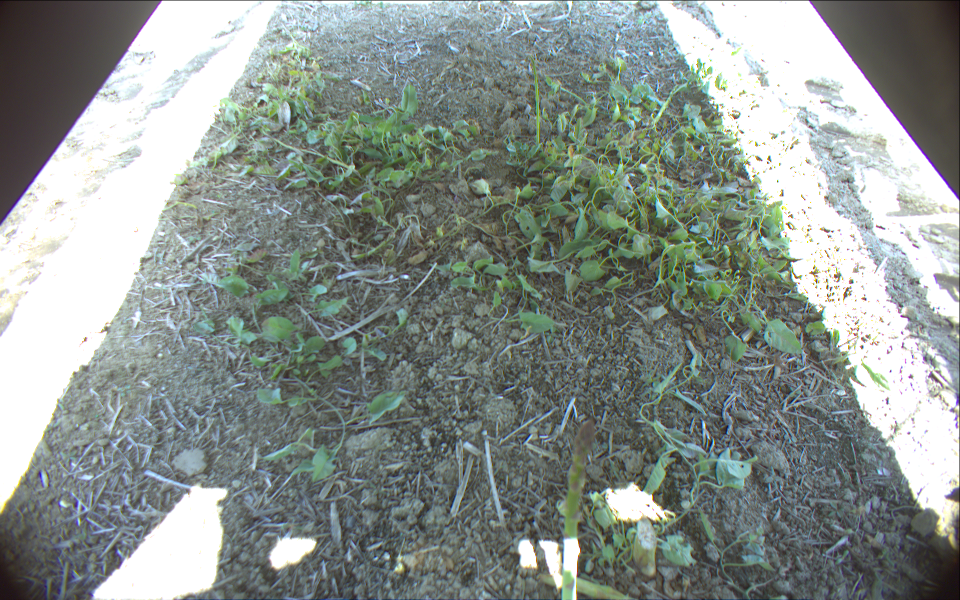aspa: (560, 420, 595, 600), (538, 571, 630, 600), (630, 516, 660, 576), (654, 81, 691, 125), (533, 53, 541, 145)
